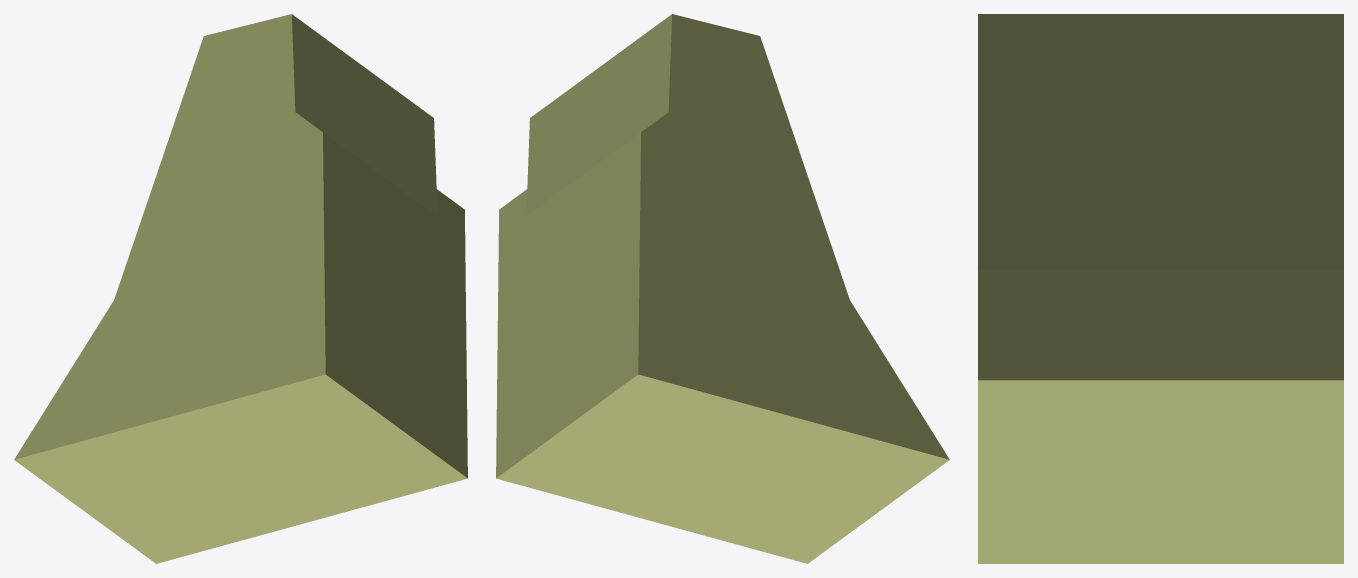
The picture shows the model from 3 angles, left to right: view 1: azimuth 30°, elevation 25°; view 2: azimuth 150°, elevation 25°; view 3: azimuth 270°, elevation 25°; orthographic projection. The views are drawn at different scales.
Parts seen in each view (by area): view 1: 0_3_0_1_1_2_2_3_3_0; view 2: 0_3_0_1_1_2_2_3_3_0; view 3: 0_3_0_1_1_2_2_3_3_0.
Boxes of the visible parts, <box> form: 0_3_0_1_1_2_2_3_3_0: <box>14,14,467,563</box>; 0_3_0_1_1_2_2_3_3_0: <box>496,14,949,563</box>; 0_3_0_1_1_2_2_3_3_0: <box>978,14,1343,563</box>.
Size of the model in its own units: 11.38 by 13.2 by 9.
